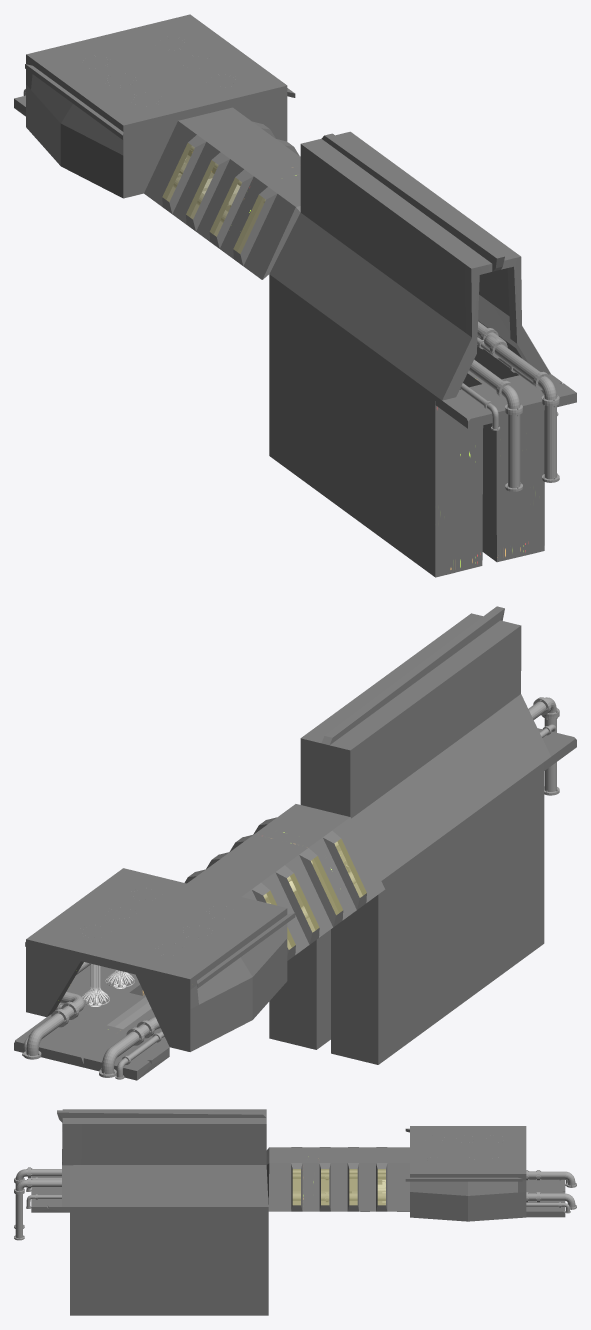
The model's file is Tutorial_Box.fbx.
3 views of the same model, one above another, from view 1: azimuth 30°, elevation 25°; view 2: azimuth 150°, elevation 25°; view 3: azimuth 270°, elevation 25° (orthographic). The views are drawn at different scales.
Parts seen in each view (by area): view 1: polySurface35, Pipes_4, Pipes_6, polySurface11; view 2: polySurface35, Pipes_6, polySurface11, Pipes_4, Pipes_10, Lamp_6; view 3: polySurface35, Pipes_4, Pipes_6, polySurface11, Pipes_8.
Boxes of the visible parts, box(x1,y1,x2,y2) form: polySurface35: box(14, 14, 576, 577); Pipes_4: box(477, 321, 559, 482); Pipes_6: box(23, 89, 522, 491); polySurface11: box(223, 165, 300, 258); polySurface35: box(14, 606, 576, 1080); Pipes_6: box(99, 697, 559, 1077); polySurface11: box(254, 824, 355, 914); Pipes_4: box(23, 962, 90, 1059); Pipes_10: box(115, 724, 556, 1079); Lamp_6: box(82, 927, 109, 1006); polySurface35: box(31, 1109, 565, 1315); Pipes_4: box(14, 1178, 576, 1240); Pipes_6: box(14, 1167, 576, 1228); polySurface11: box(302, 1147, 319, 1211); Pipes_8: box(26, 1170, 570, 1213).
Bounding box in the file's own units: 4680 × 7333 × 19898.
